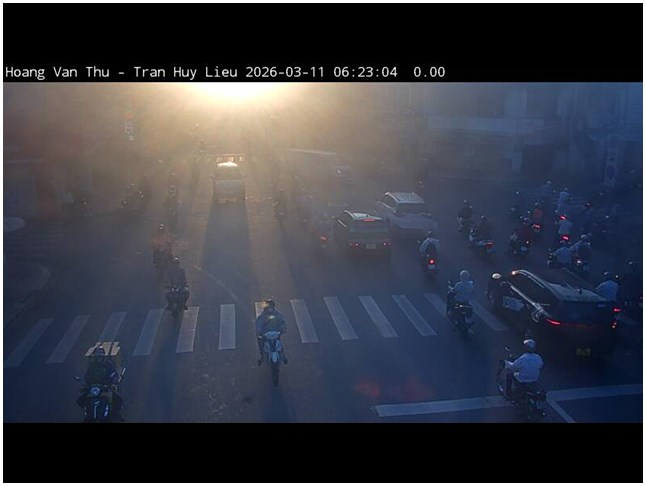car: (505, 269, 620, 328), (327, 210, 393, 255), (374, 191, 436, 236)
